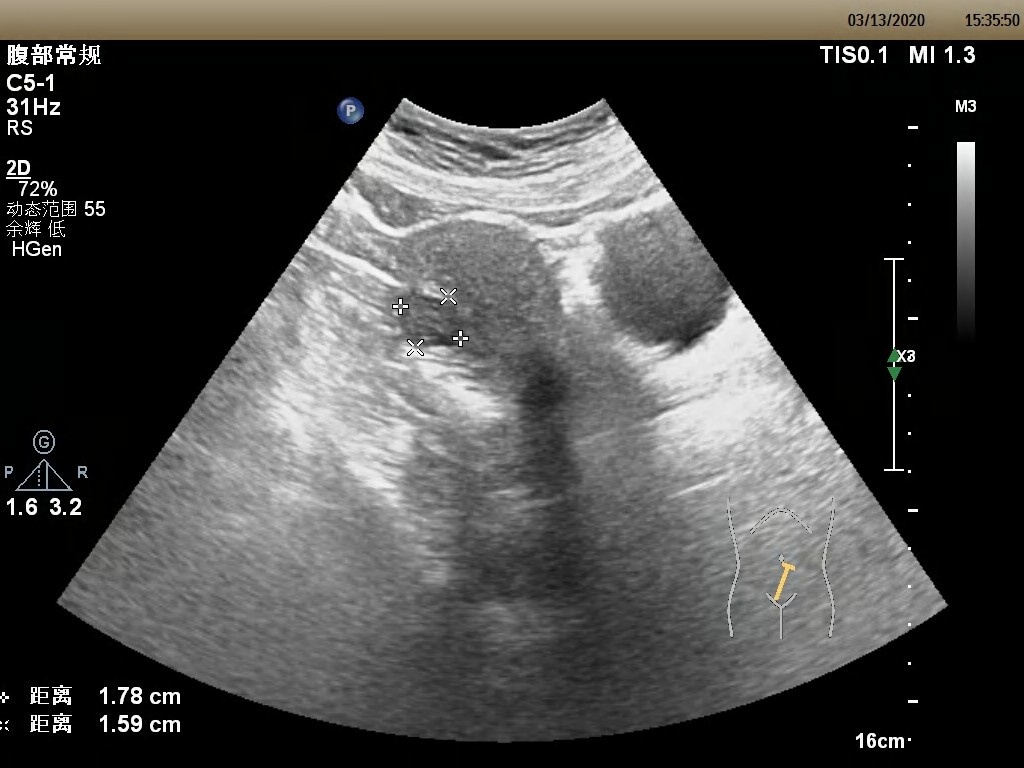肌瘤: (404, 293, 456, 345)
